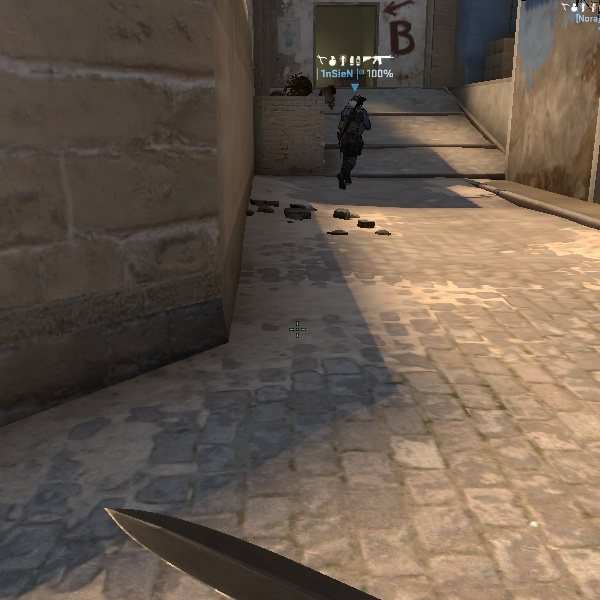ct_body: (327, 90, 382, 192)
